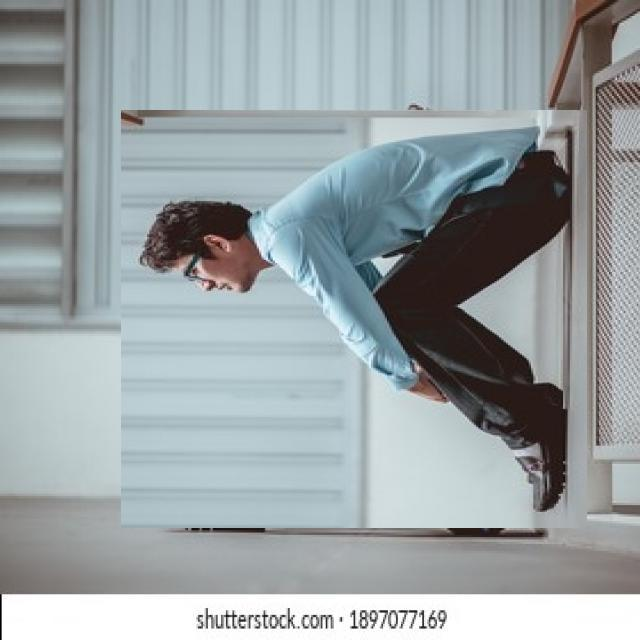NotFall: (60, 114, 609, 554)
